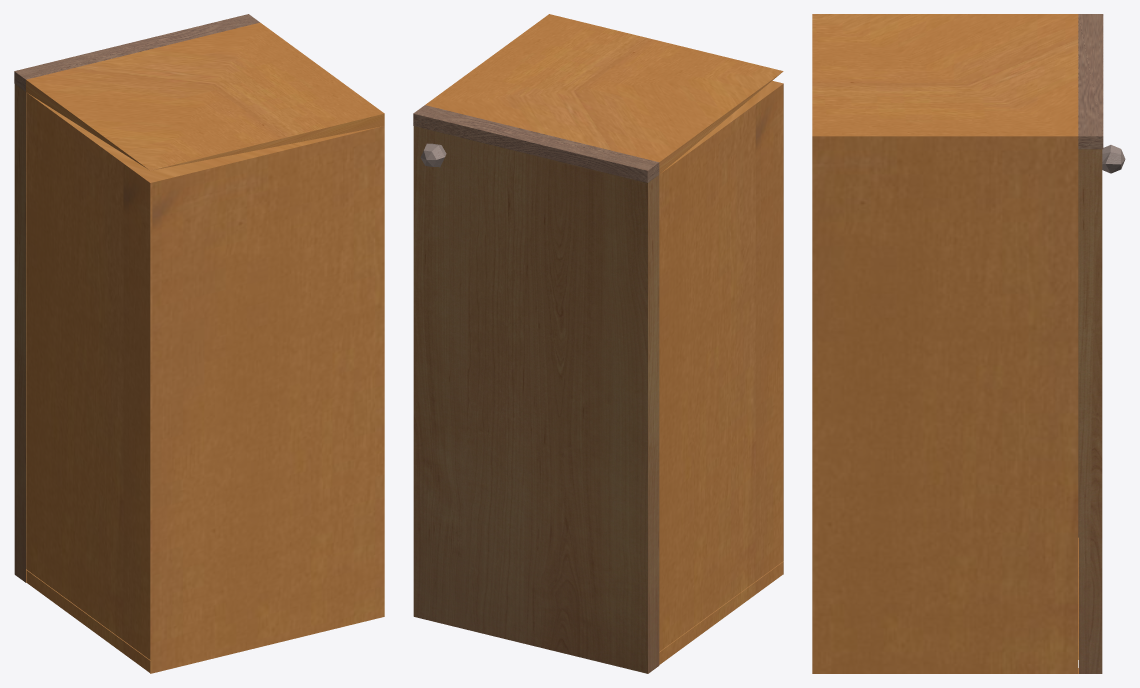
Rendered from Тумбочка.fbx.
3 renders of one model, left to right at view 1: azimuth 30°, elevation 25°; view 2: azimuth 150°, elevation 25°; view 3: azimuth 270°, elevation 25°, orthographic. The views are drawn at different scales.
Visible parts, largest first — view 1: дверца.001; view 2: дверца.001; view 3: дверца.001.
Part boxes in pixels (left/top/right/bottom): дверца.001: left=14, top=14, right=384, bottom=673; дверца.001: left=413, top=14, right=783, bottom=673; дверца.001: left=812, top=14, right=1125, bottom=673.
Bounding box in the file's own units: 39.91 × 81.86 × 43.19.
4 materials, 4 textured.
